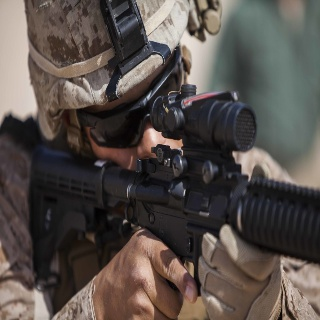rifle: (27, 82, 320, 298)
